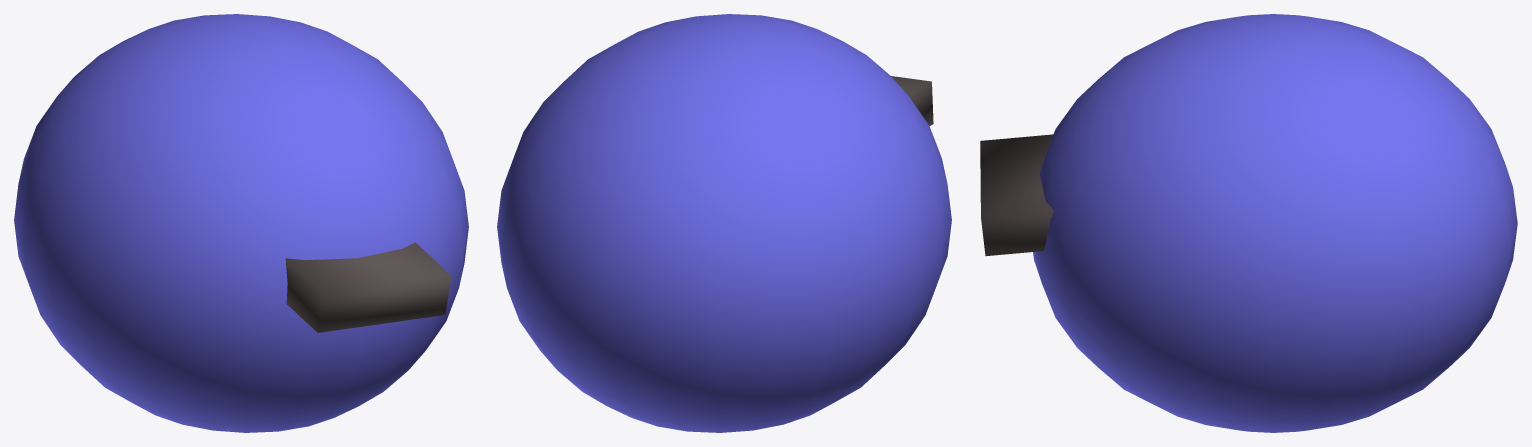
The model's file is sports_helmet.glb.
3 views of the same model, side by side, from view 1: azimuth 30°, elevation 25°; view 2: azimuth 150°, elevation 25°; view 3: azimuth 270°, elevation 25° (orthographic).
Visible parts, largest first — view 1: shell, visor; view 2: shell, visor; view 3: shell, visor.
Part boxes in pixels (x1,y1,x2,y2): shell: (14, 14, 468, 432); visor: (285, 242, 451, 332); shell: (497, 14, 951, 432); visor: (891, 76, 933, 125); shell: (1033, 14, 1517, 432); visor: (980, 134, 1054, 256).
Size of the model in its own units: 1.2 by 1.1 by 1.43.
